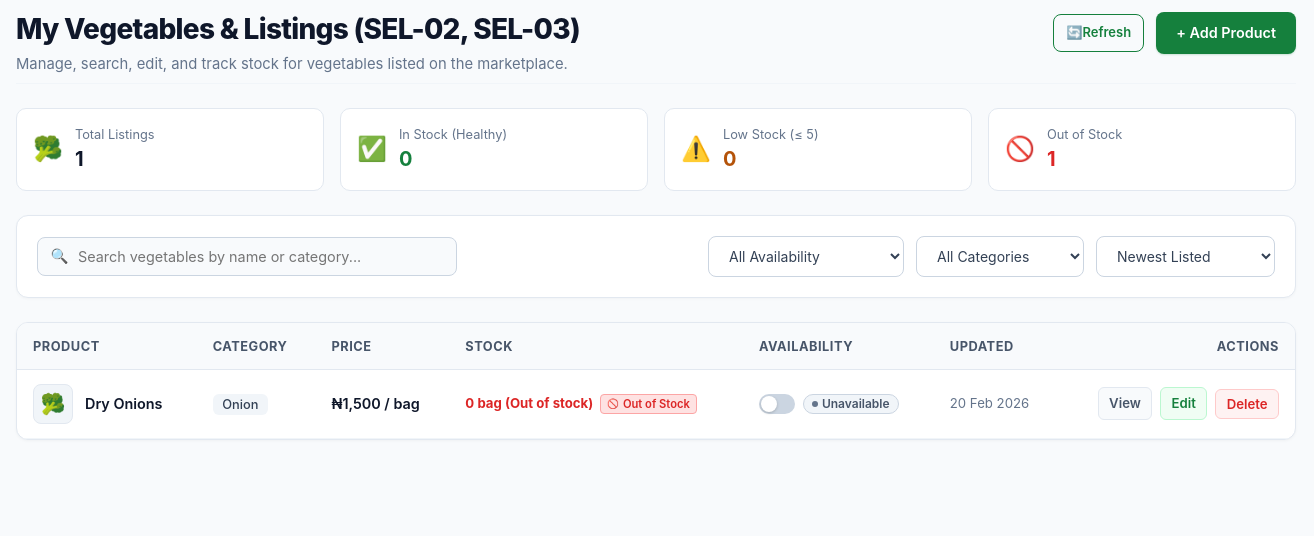
FE-087 / SEL-07: Availability Toggle & Automatic Stock Derivation › 2. Auto "Out of Stock" Derivation when Quantity is 0 (SEL-07, BR-01, TC-21) › shows toast explaining auto out-of-stock when turning switch ON for a 0-stock product
# Click to turn ON
Click the switch with test id "product-availability-toggle-99": [777, 404] box [759,394,795,414]
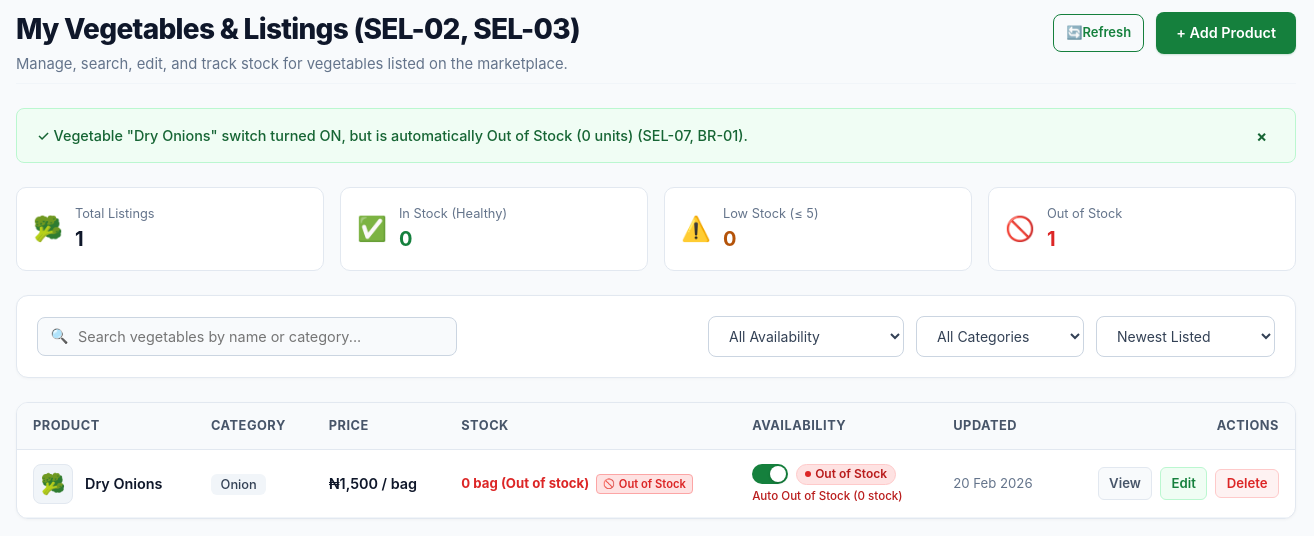
expect the cell with test id "product-availability-99" shows "Out of Stock": met, box [815,466,887,481]
expect the text with test id "auto-out-of-stock-hint-99" reads "Auto Out of Stock (0 stock)": met, box [752,489,903,503]
